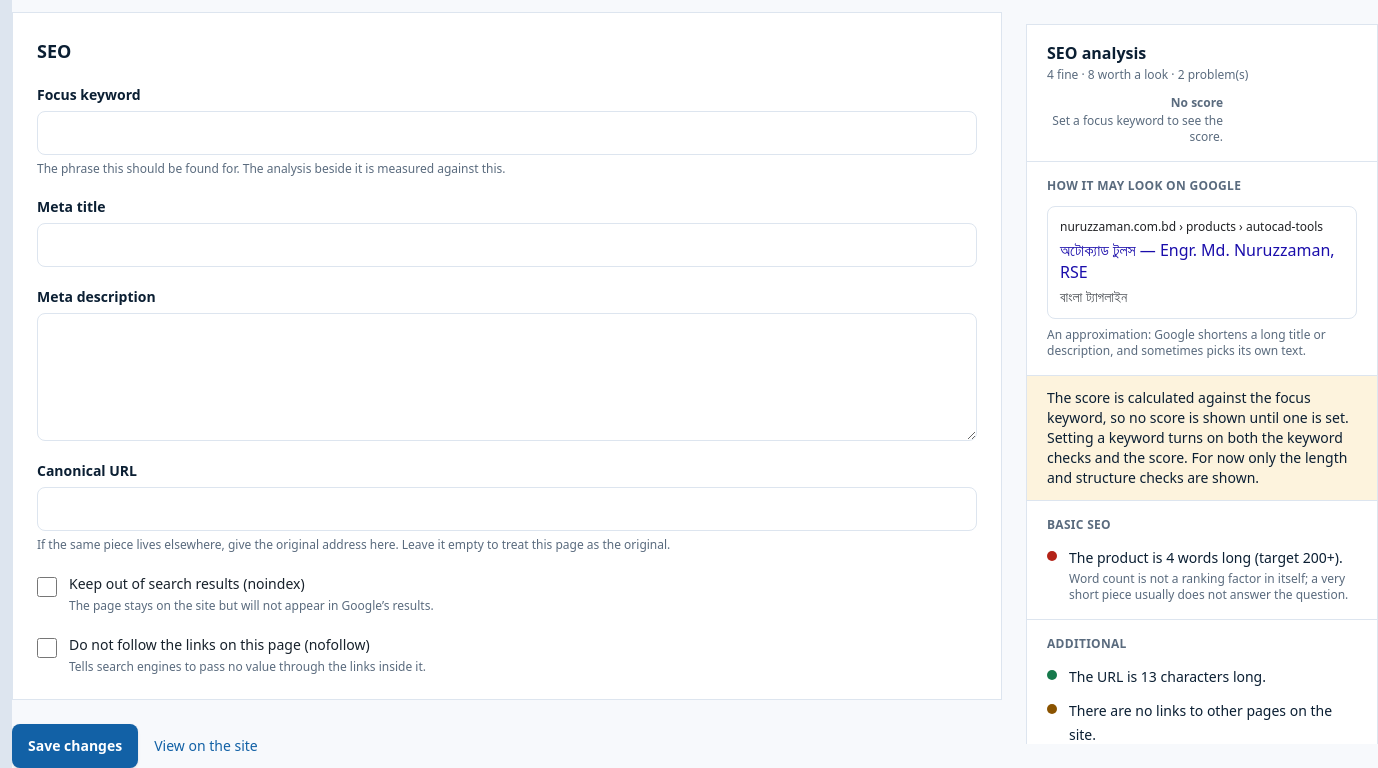
Test case: ProductEditor › puts a rejected field next to its input rather than in a banner
This screenshot has width=1378, height=768.
(page scrolled)
What coordinates should you click on to do the following:
click the button "Save changes"
I would click on:
 (75, 746)
Its box is [12, 724, 138, 767].
(page scrolled)
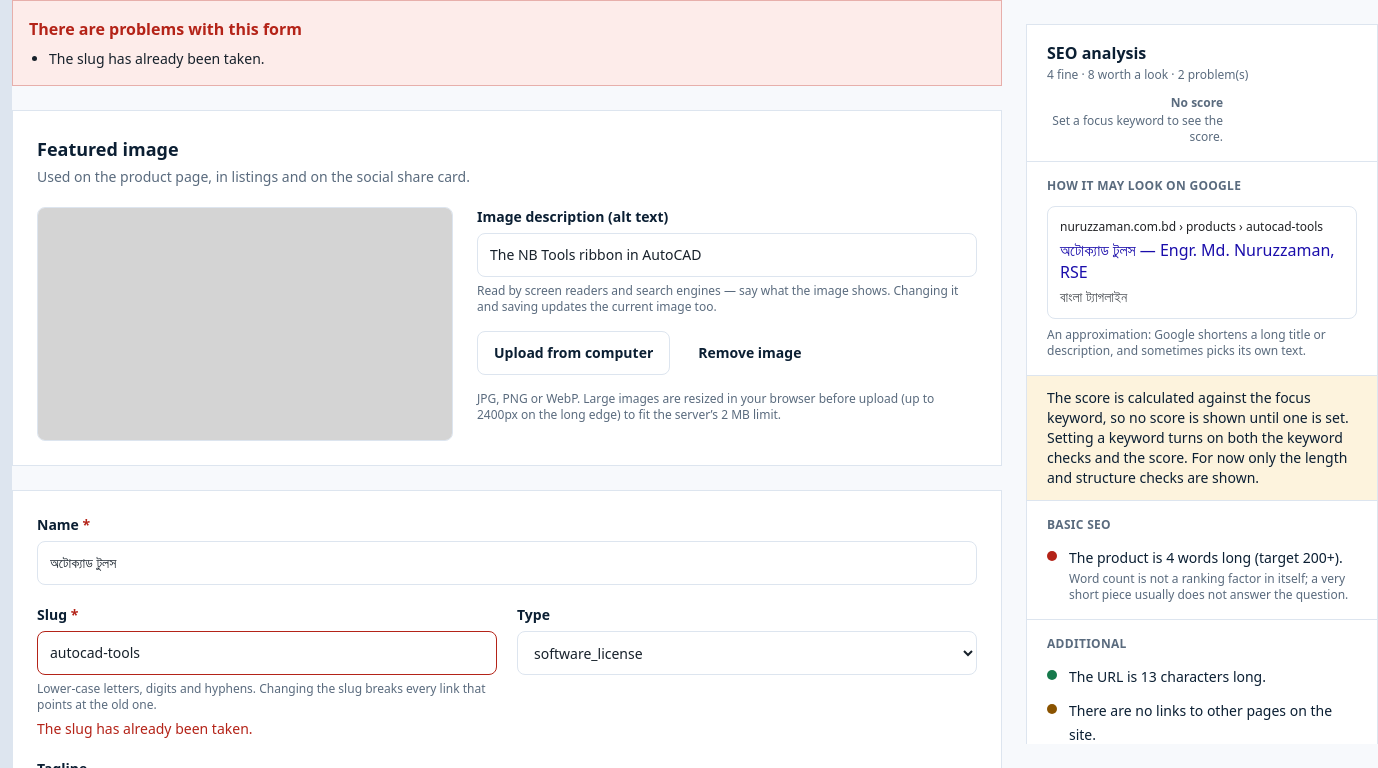
Result: the message shows "The slug has already been taken." at [49, 49, 264, 68]
